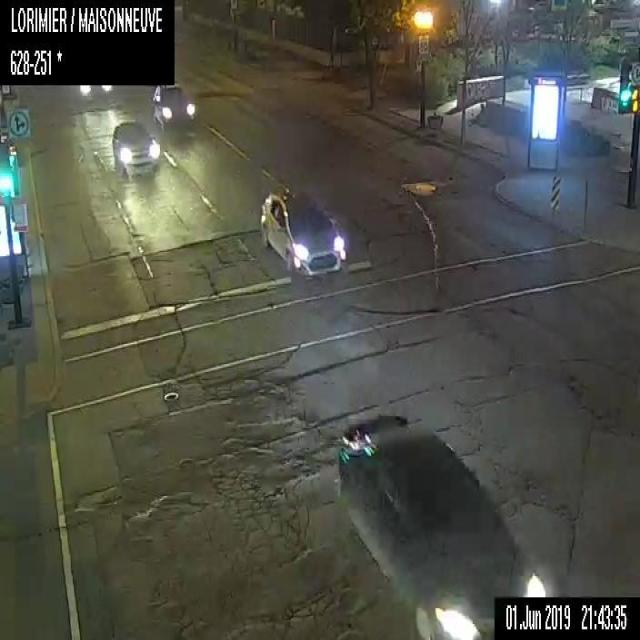vehicle: (334, 412, 546, 639), (258, 188, 347, 277), (112, 121, 158, 178), (152, 82, 195, 130), (76, 84, 114, 98)
